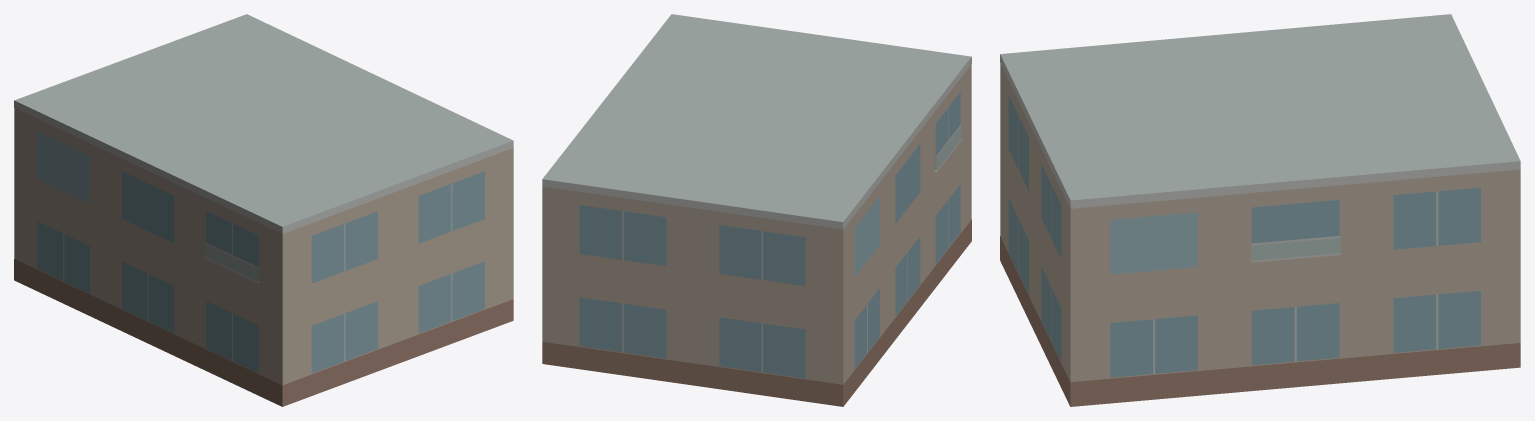
File: survey-upis-32679128.glb
3 renders of one model, left to right at view 1: azimuth 30°, elevation 25°; view 2: azimuth 150°, elevation 25°; view 3: azimuth 270°, elevation 25°, orthographic. The views are drawn at different scales.
Visible parts, largest first — view 1: survey-upis-32679128.tmp; view 2: survey-upis-32679128.tmp; view 3: survey-upis-32679128.tmp.
Boxes of the visible parts, <box> form: survey-upis-32679128.tmp: <box>14,14,513,406</box>; survey-upis-32679128.tmp: <box>542,14,971,406</box>; survey-upis-32679128.tmp: <box>1000,14,1520,406</box>.
Bounding box in the file's own units: 11.84 × 6.1 × 13.96.
